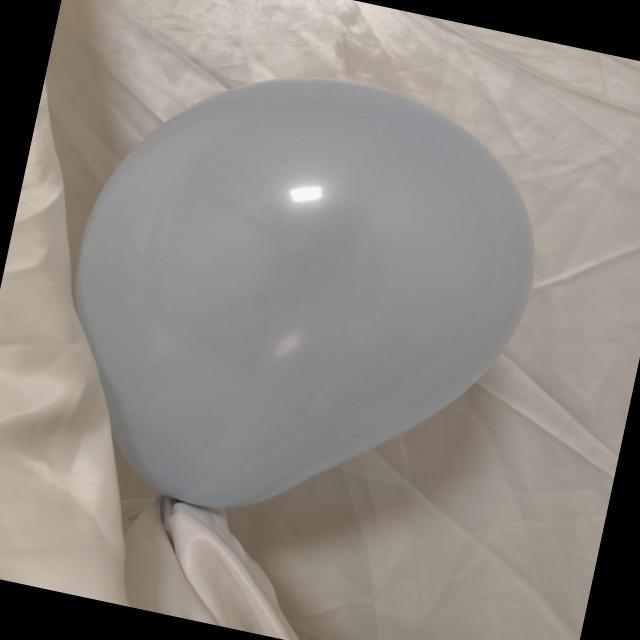balloon: (75, 79, 532, 507)
